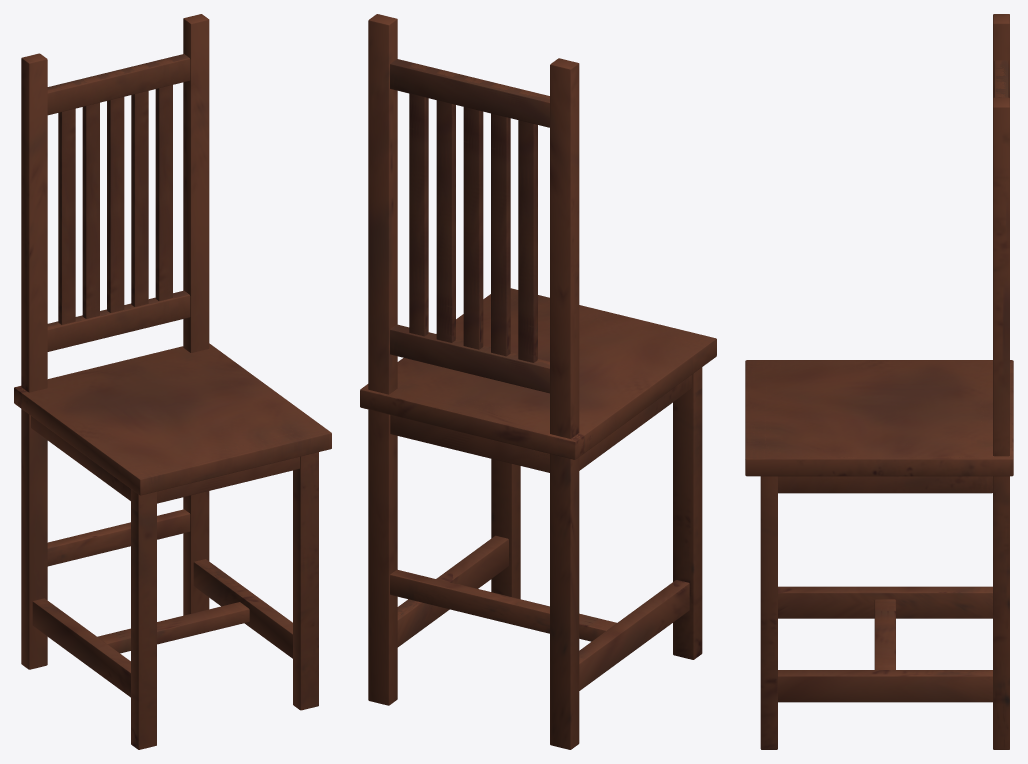
Rendered from CadeiraDeMadeira.fbx.
3 views of the same model, side by side, from view 1: azimuth 30°, elevation 25°; view 2: azimuth 150°, elevation 25°; view 3: azimuth 270°, elevation 25° (orthographic). The views are drawn at different scales.
Parts seen in each view (by area): view 1: Cadeira; view 2: Cadeira; view 3: Cadeira.
Part boxes in pixels (x1,y1,x2,y2): Cadeira: (14, 14, 331, 749); Cadeira: (360, 14, 716, 749); Cadeira: (745, 14, 1013, 749).
Size of the model in its own units: 40.35 by 122 by 45.97.
